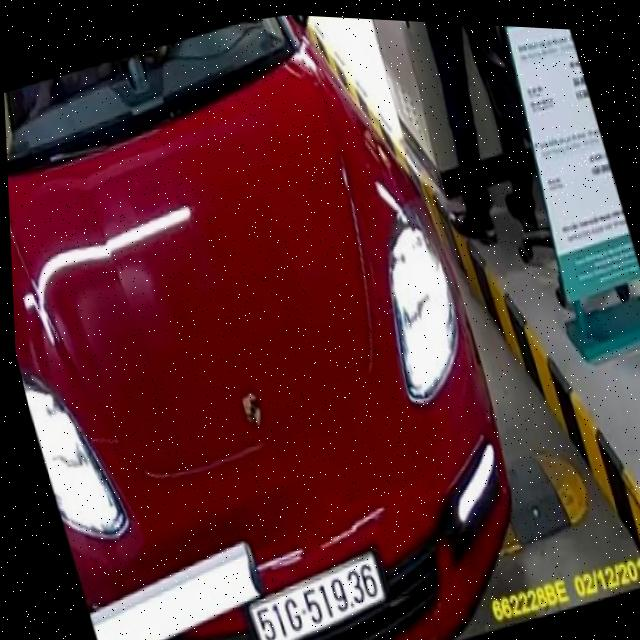car: (0, 0, 550, 640)
plate: (236, 540, 400, 640)
